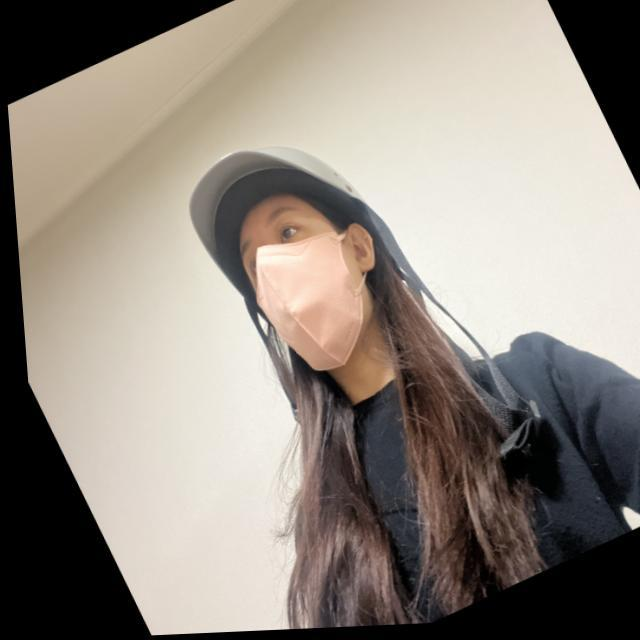Helmet: (160, 129, 427, 384)
